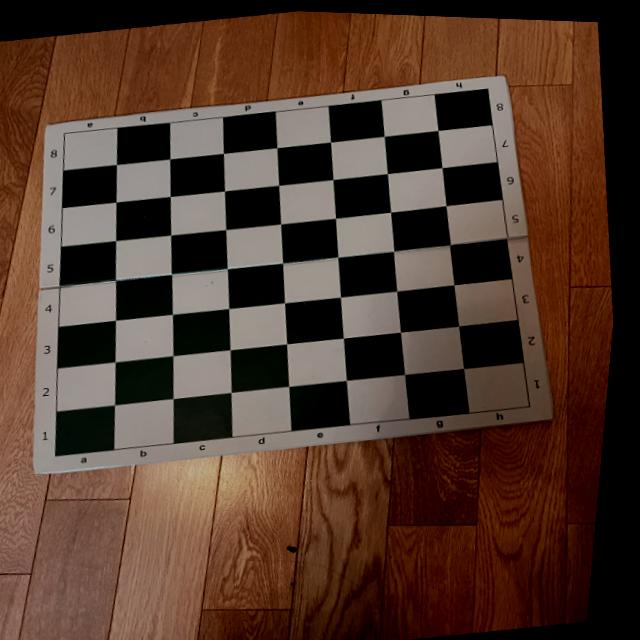Chessboard-Corners: (531, 396, 545, 406), (62, 127, 73, 137), (484, 82, 494, 90), (60, 452, 69, 459)
